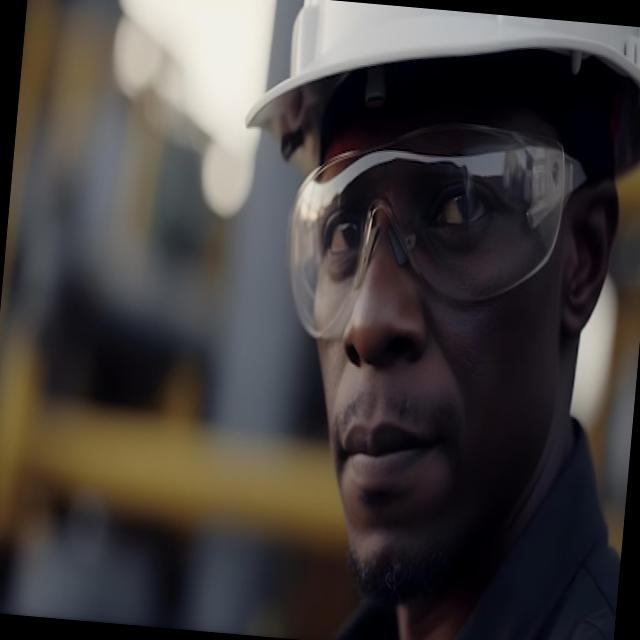goggles: (254, 88, 596, 360)
helmet: (239, 0, 640, 197)
no-vest: (312, 508, 622, 640)
